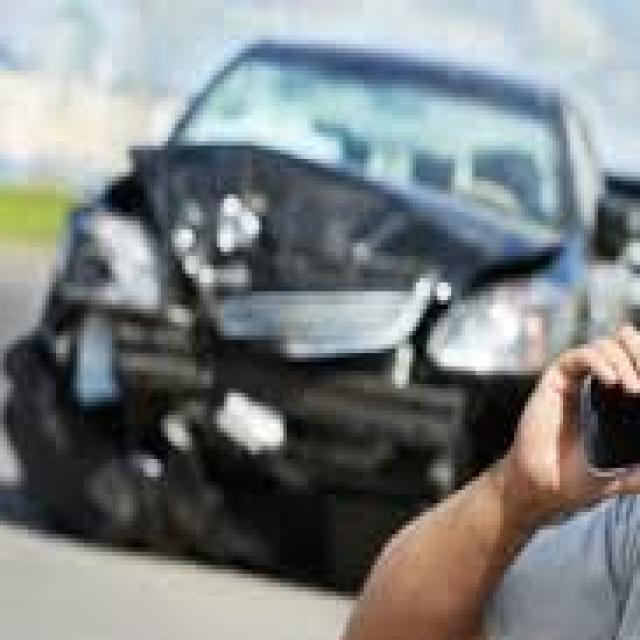severe: (9, 230, 559, 541)
